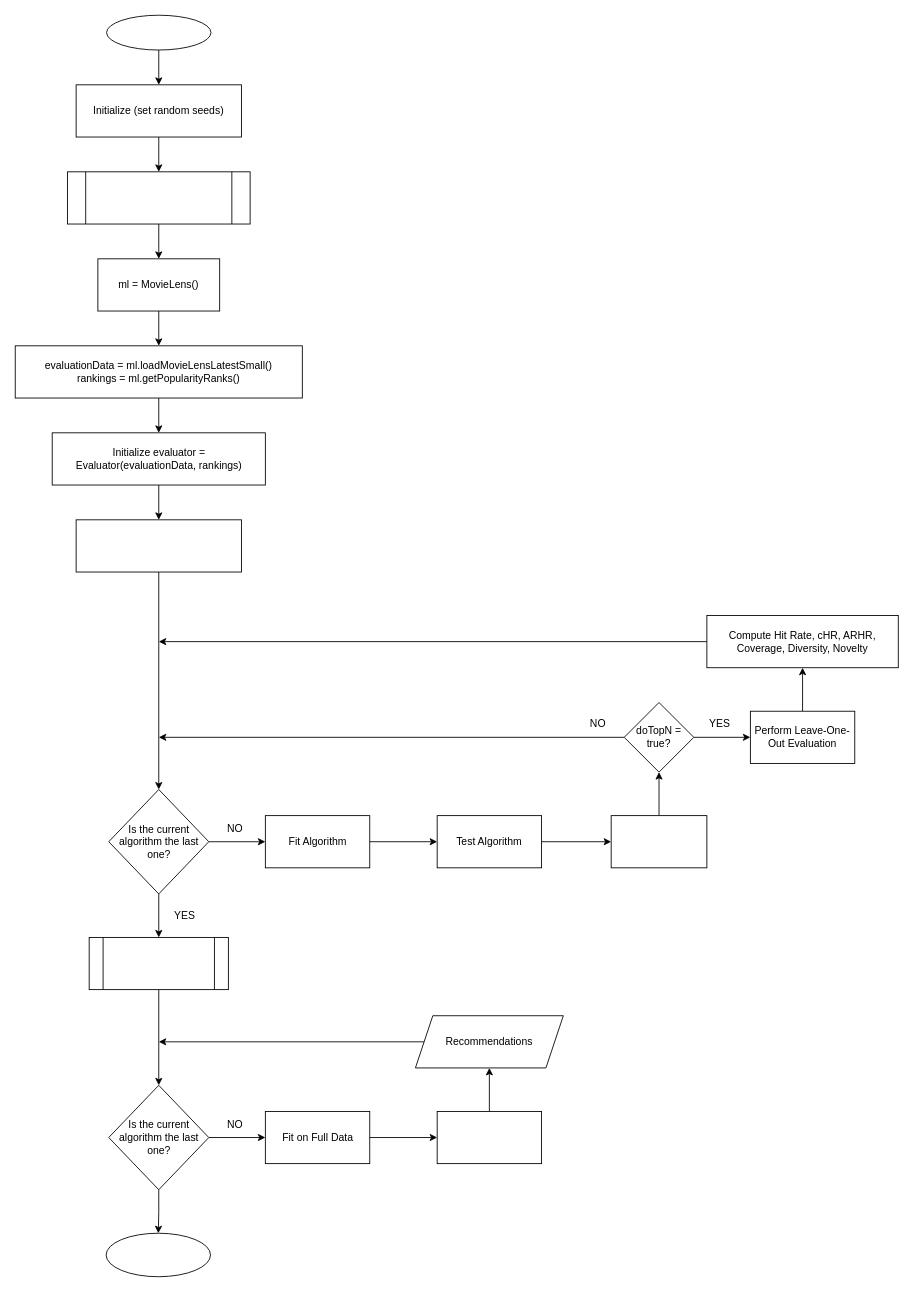
This 914x1292 diagram has some shape labels left out. Each missing label, with the box of its shape:
Add Algorithms to Evaluator: (75, 519, 241, 572)
Compute Recommendations for Test Subject: (436, 1111, 542, 1164)
Compute RMSE and MAE: (610, 815, 707, 868)
End: (105, 1232, 211, 1277)
LoadMovieLensData: (67, 171, 250, 224)
SampleTopNRecs: (88, 937, 228, 990)
Start: (106, 14, 211, 50)
